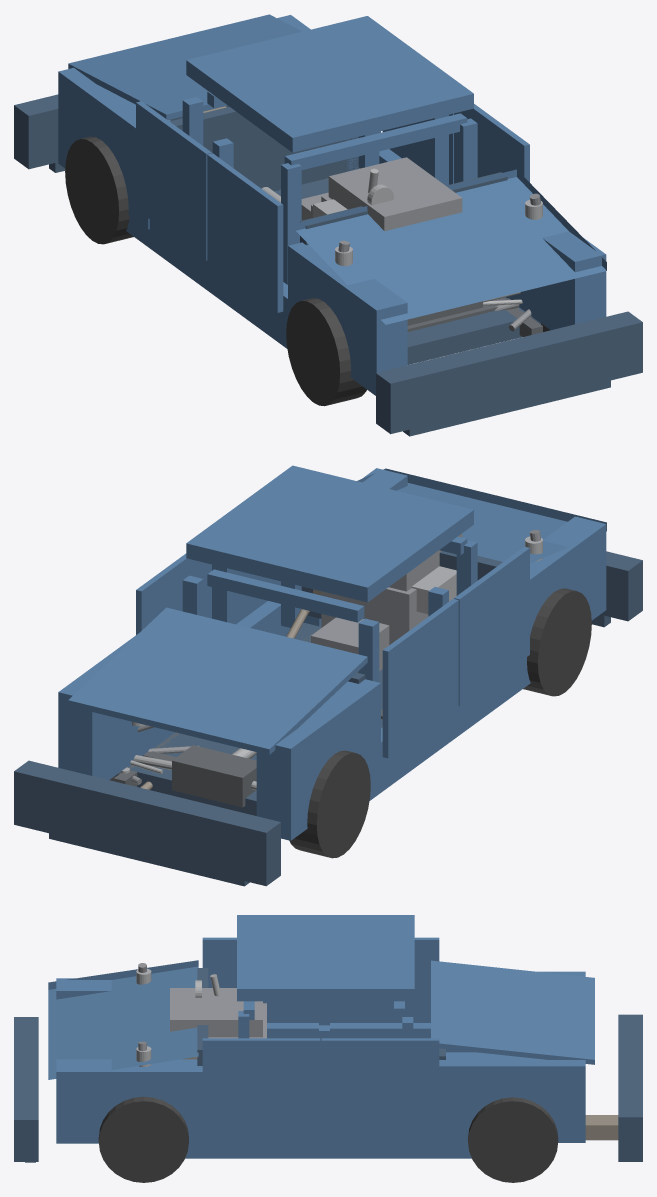
Rendered from vehicle.glb.
3 renders of one model, top to bottom at view 1: azimuth 30°, elevation 25°; view 2: azimuth 150°, elevation 25°; view 3: azimuth 270°, elevation 25°, orthographic. The views are drawn at different scales.
Parts seen in each view (by area): view 1: BodyShellMesh, RoofMesh, HoodMesh, FrontBumperMesh, TrunkMesh, DoorFLDoorMesh, DoorRLDoorMesh, EngineBlockMesh, FLTire, RLTire, RearBumperMesh, DoorFRDoorMesh (+3 smaller); view 2: BodyShellMesh, TrunkMesh, RoofMesh, RearBumperMesh, DoorRLDoorMesh, DoorFLDoorMesh, HoodMesh, RLTire, FLTire, DifferentialMesh, EngineBlockMesh, DoorRRDoorMesh (+4 smaller); view 3: BodyShellMesh, RoofMesh, TrunkMesh, HoodMesh, DoorFRDoorMesh, DoorRRDoorMesh, FRTire, RRTire, RearBumperMesh, FrontBumperMesh, EngineBlockMesh, DoorRLDoorMesh (+2 smaller).
Boxes of the visible parts, x1,y1,x2,y2 form: BodyShellMesh: [58, 15, 606, 395]; RoofMesh: [186, 16, 473, 152]; HoodMesh: [295, 169, 606, 324]; FrontBumperMesh: [376, 311, 642, 436]; TrunkMesh: [68, 14, 301, 119]; DoorFLDoorMesh: [207, 153, 283, 312]; DoorRLDoorMesh: [136, 101, 211, 260]; EngineBlockMesh: [321, 157, 462, 231]; FLTire: [286, 298, 366, 406]; RLTire: [65, 136, 133, 244]; RearBumperMesh: [14, 94, 229, 172]; DoorFRDoorMesh: [454, 104, 529, 183]; BodyShellMesh: [58, 468, 606, 840]; TrunkMesh: [68, 607, 367, 755]; RoofMesh: [186, 465, 473, 602]; RearBumperMesh: [14, 760, 280, 886]; DoorRLDoorMesh: [382, 598, 458, 758]; DoorFLDoorMesh: [454, 546, 529, 706]; HoodMesh: [357, 468, 606, 563]; RLTire: [289, 750, 370, 858]; FLTire: [523, 588, 591, 696]; DifferentialMesh: [133, 745, 256, 807]; EngineBlockMesh: [321, 533, 462, 644]; DoorRRDoorMesh: [136, 553, 211, 634]; BodyShellMesh: [56, 968, 585, 1158]; RoofMesh: [237, 915, 414, 1001]; TrunkMesh: [431, 960, 594, 1064]; HoodMesh: [48, 960, 198, 1079]; DoorFRDoorMesh: [202, 1038, 320, 1129]; DoorRRDoorMesh: [321, 1038, 439, 1129]; FRTire: [98, 1096, 188, 1182]; RRTire: [468, 1097, 558, 1182]; RearBumperMesh: [618, 1014, 642, 1161]; FrontBumperMesh: [14, 1017, 38, 1162]; EngineBlockMesh: [170, 988, 266, 1038]; DoorRLDoorMesh: [330, 937, 439, 1022].
Bounding box in the file's own units: 1.78 × 1.45 × 4.6.
